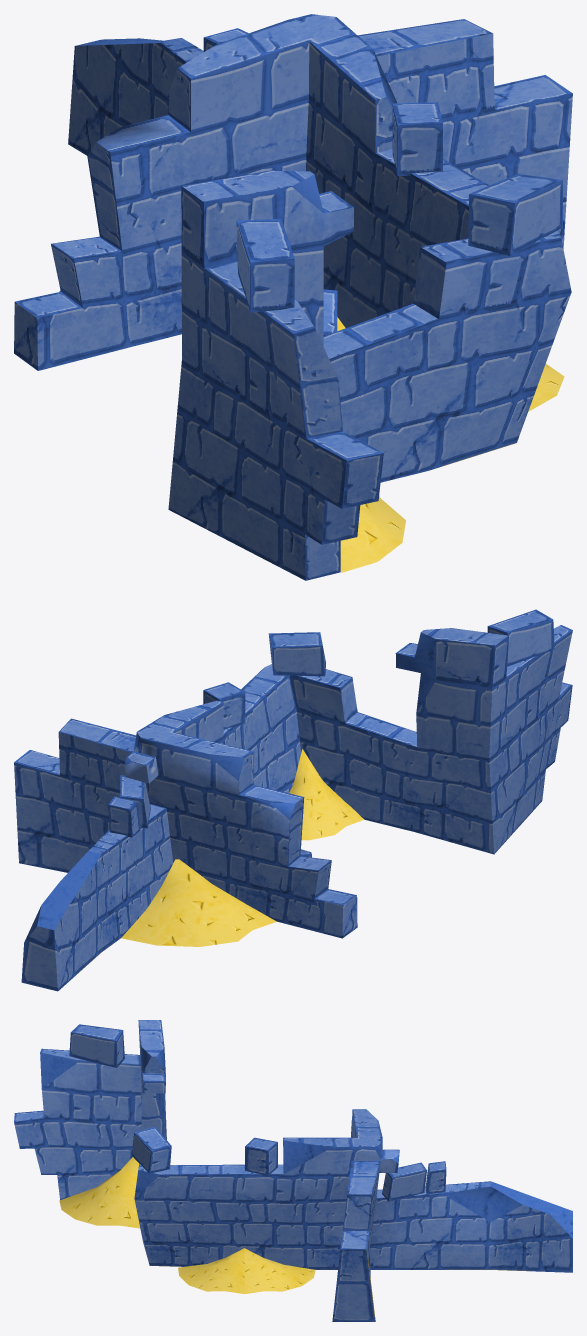
The model's file is Toon_Wall_01.fbx.
The picture shows the model from 3 angles, top to bottom: view 1: azimuth 30°, elevation 25°; view 2: azimuth 150°, elevation 25°; view 3: azimuth 270°, elevation 25°; orthographic projection. The views are drawn at different scales.
Parts seen in each view (by area): view 1: Toon_Wall_01; view 2: Toon_Wall_01; view 3: Toon_Wall_01.
Boxes of the visible parts, x1=… form: Toon_Wall_01: x1=14, y1=14, x2=572, y2=580; Toon_Wall_01: x1=14, y1=609, x2=572, y2=991; Toon_Wall_01: x1=14, y1=1020, x2=572, y2=1321.
Bounding box in the file's own units: 16.57 × 9.13 × 27.26.
